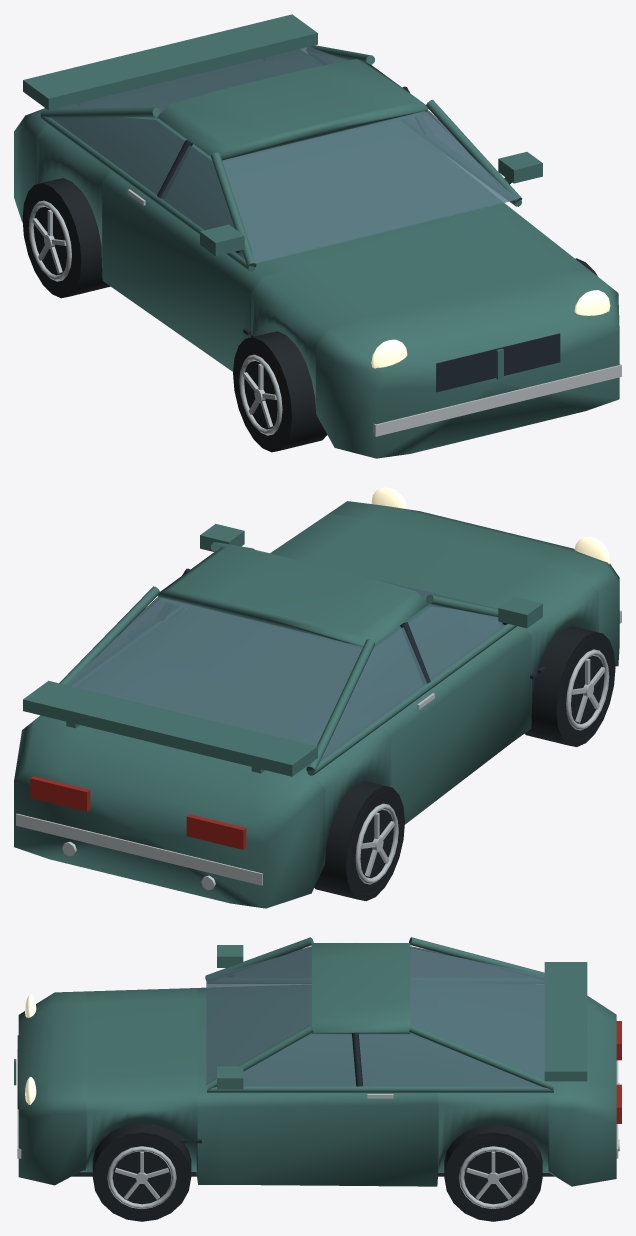
The model's file is mustang.glb.
3 views of the same model, one above another, from view 1: azimuth 30°, elevation 25°; view 2: azimuth 150°, elevation 25°; view 3: azimuth 270°, elevation 25° (orthographic). The views are drawn at different scales.
Parts seen in each view (by area): view 1: exterior-paint, windows, tire-front-left, tire-rear-left, black-trim, chrome, rim-front-left, rim-rear-left, headlights; view 2: exterior-paint, windows, tire-front-left, tire-rear-left, chrome, taillights, rim-rear-left, rim-front-left, headlights; view 3: exterior-paint, windows, tire-front-right, tire-rear-right, rim-rear-right, rim-front-right, black-trim, chrome, taillights, headlights.
Boxes of the visible parts, bbox=[...] form: exterior-paint: bbox=[14, 14, 619, 458]; windows: bbox=[49, 46, 516, 263]; tire-front-left: bbox=[233, 331, 327, 452]; tire-rear-left: bbox=[22, 178, 110, 298]; black-trim: bbox=[157, 86, 560, 392]; chrome: bbox=[127, 189, 621, 436]; rim-front-left: bbox=[239, 354, 282, 435]; rim-rear-left: bbox=[28, 200, 71, 281]; headlights: bbox=[371, 290, 610, 368]; exterior-paint: bbox=[14, 501, 619, 908]; windows: bbox=[66, 549, 508, 767]; tire-front-left: bbox=[524, 626, 615, 746]; tire-rear-left: bbox=[314, 781, 404, 901]; chrome: bbox=[16, 610, 621, 890]; taillights: bbox=[30, 776, 246, 849]; rim-rear-left: bbox=[355, 803, 398, 884]; rim-front-left: bbox=[566, 649, 609, 730]; headlights: bbox=[371, 487, 610, 564]; exterior-paint: bbox=[14, 937, 616, 1186]; windows: bbox=[206, 946, 554, 1085]; tire-front-right: bbox=[92, 1122, 191, 1221]; tire-rear-right: bbox=[444, 1124, 542, 1221]; rim-rear-right: bbox=[459, 1146, 528, 1208]; rim-front-right: bbox=[107, 1146, 176, 1208]; black-trim: bbox=[17, 1032, 554, 1176]; chrome: bbox=[17, 1049, 619, 1158]; taillights: bbox=[616, 1021, 621, 1123]; headlights: bbox=[25, 994, 36, 1104].
Bounding box in the file's own units: 1.95 × 1.19 × 3.7.
